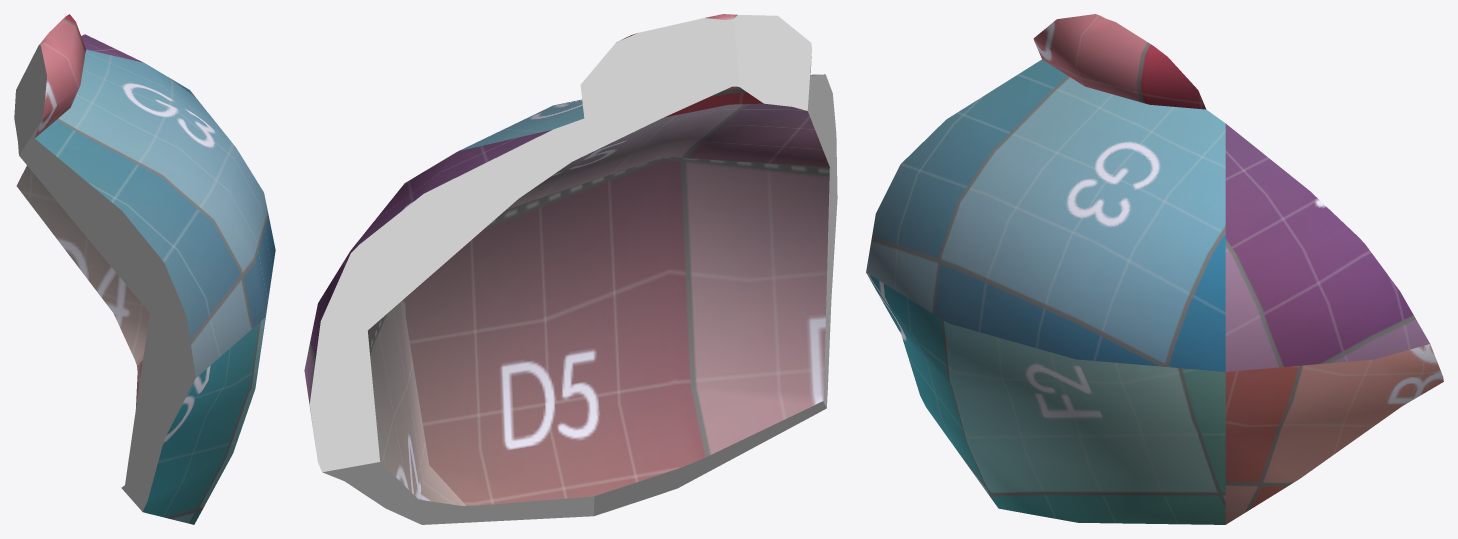
Rendered from SmallVase_SHAT_cell_004.fbx.
The picture shows the model from 3 angles, left to right: view 1: azimuth 30°, elevation 25°; view 2: azimuth 150°, elevation 25°; view 3: azimuth 270°, elevation 25°; orthographic projection. The views are drawn at different scales.
Visible parts, largest first — view 1: SmallVase_SHAT_cell_004; view 2: SmallVase_SHAT_cell_004; view 3: SmallVase_SHAT_cell_004.
Boxes of the visible parts, x1,y1,x2,y2 form: SmallVase_SHAT_cell_004: (14, 14, 275, 524); SmallVase_SHAT_cell_004: (304, 14, 837, 524); SmallVase_SHAT_cell_004: (866, 14, 1443, 524).
Size of the model in its own units: 0.4456 by 0.6823 by 0.7983.
2 materials, 1 textured.
